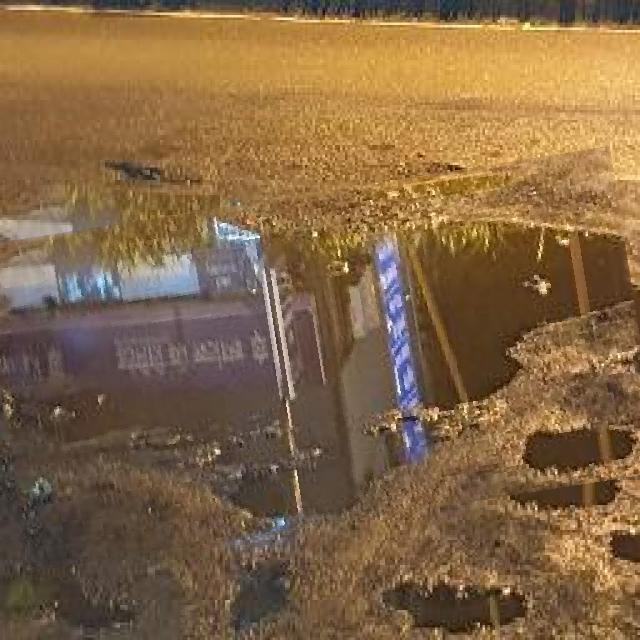puddle: (1, 170, 640, 549)
